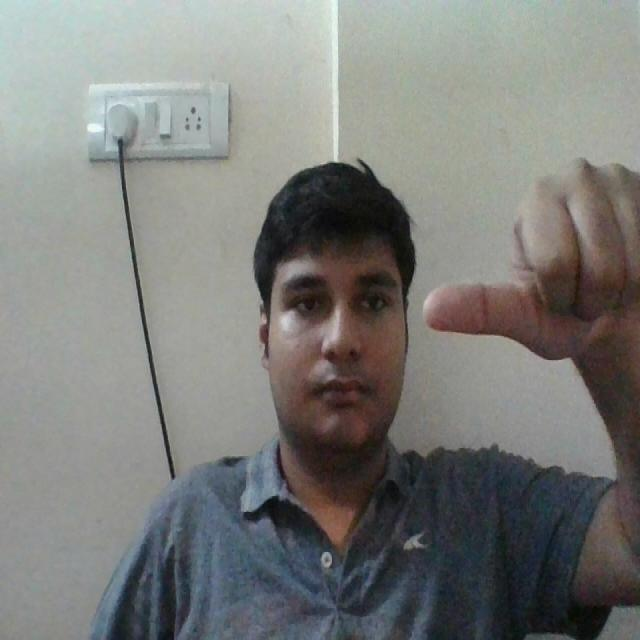Yes: (432, 154, 640, 395)
